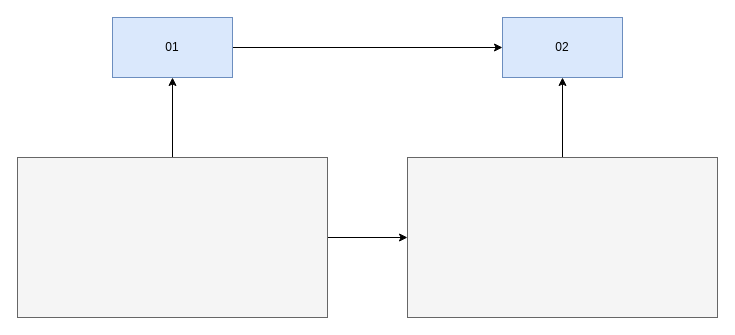
Some shapes in this 735 by 335 pixel diagram are drawn without their labels. The centre of each missing label's shape, as x and y in pixels:
删除seaweed filer中的文件 同步元数据: point (562, 237)
运行cloud driver 异步写回s3 直接测试: point (172, 237)
